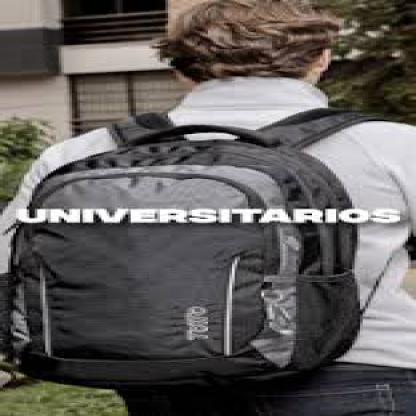morral: (6, 108, 406, 393)
